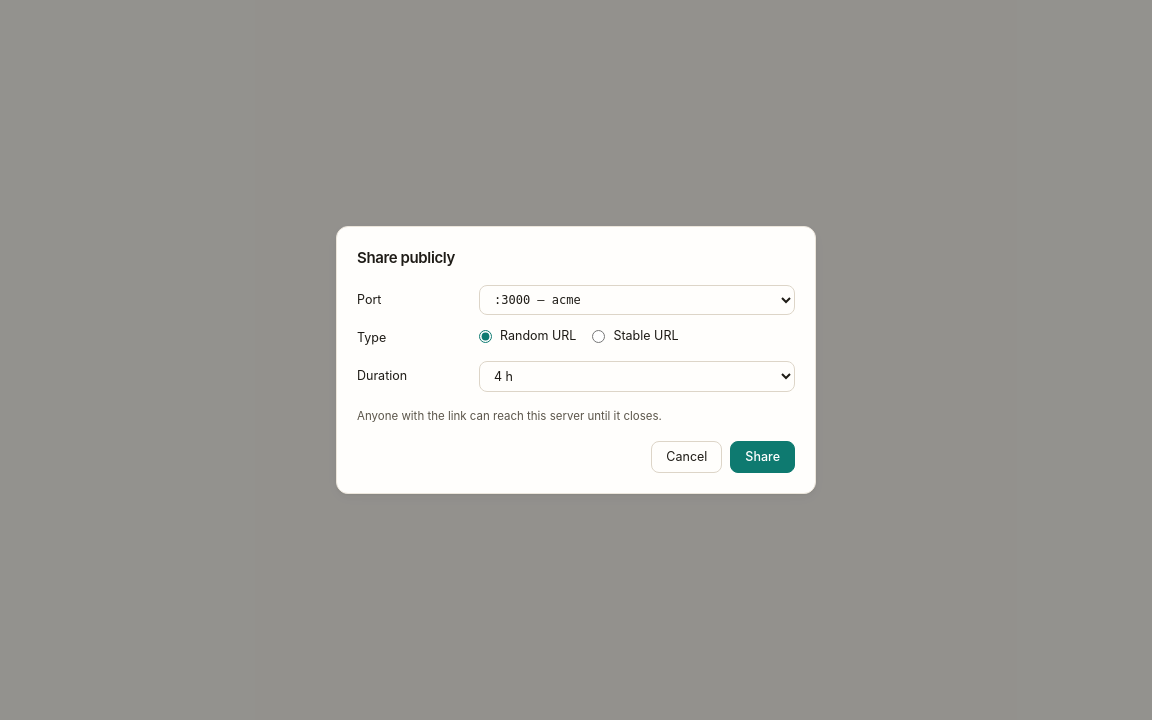
ShareDialog › blocks Share on an invalid typed name
Click the radio button labelled "Stable URL": x=599, y=337 [592,330,605,343]
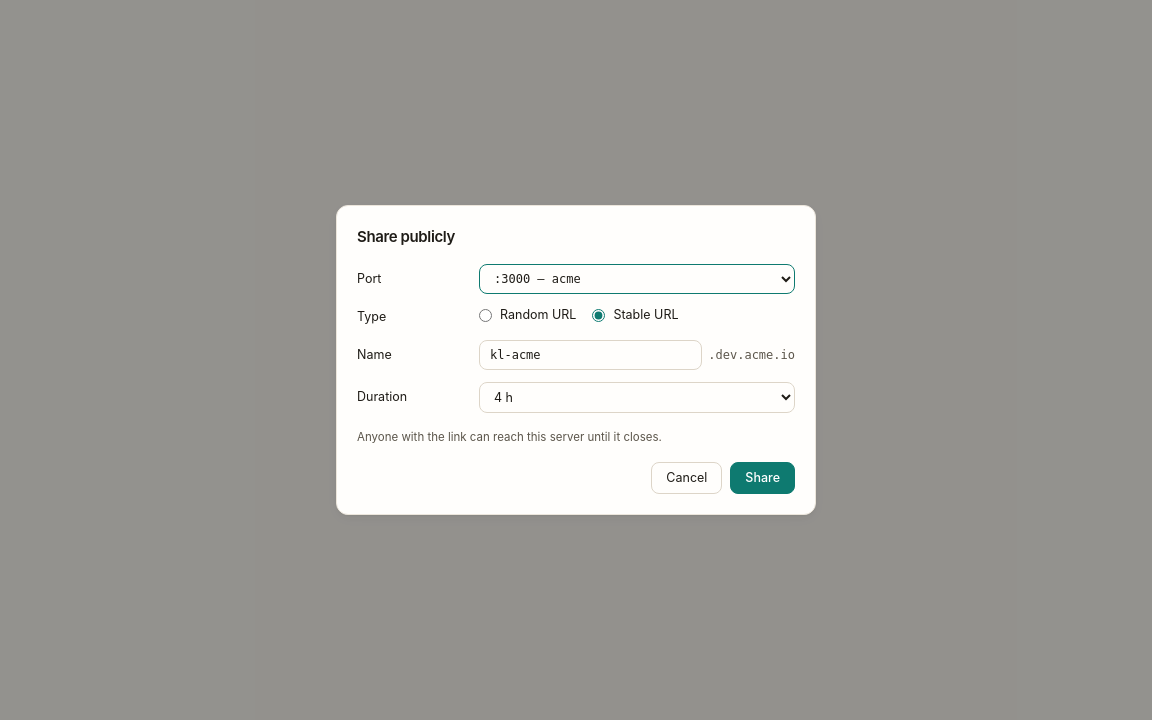
Replace the text in the field with id "share-name" with "Bad_Name": x=591, y=355 [479,340,702,370]
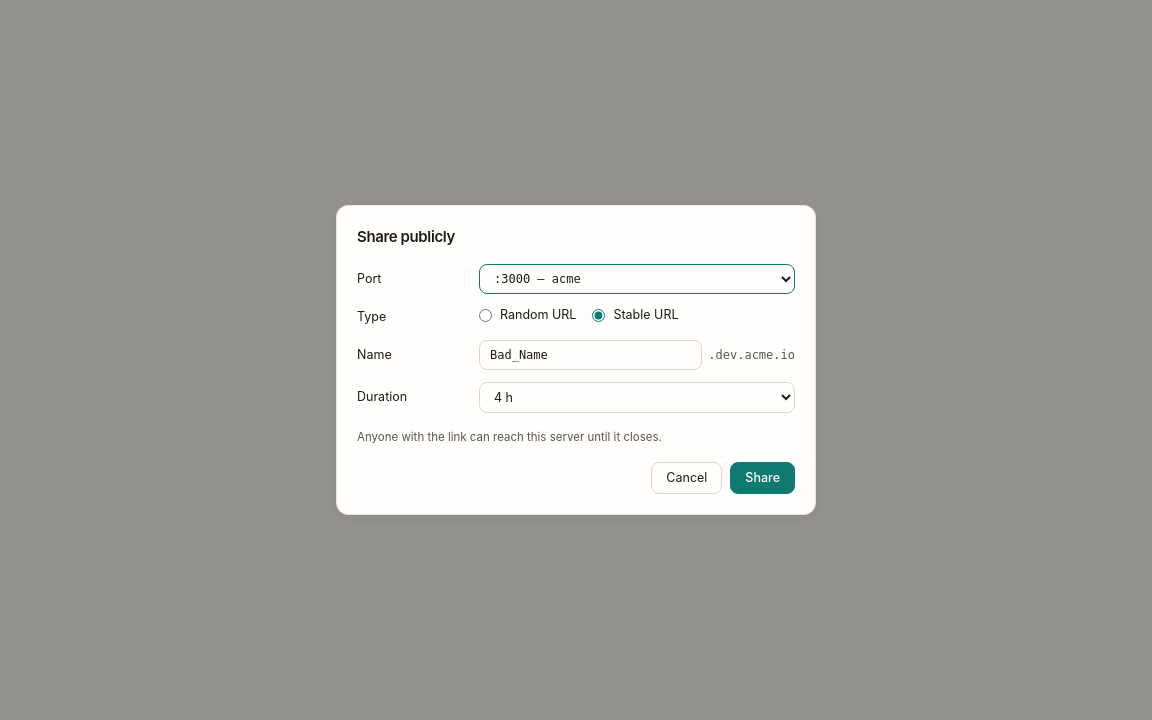
Submit the dialog, box [336,205,816,515]
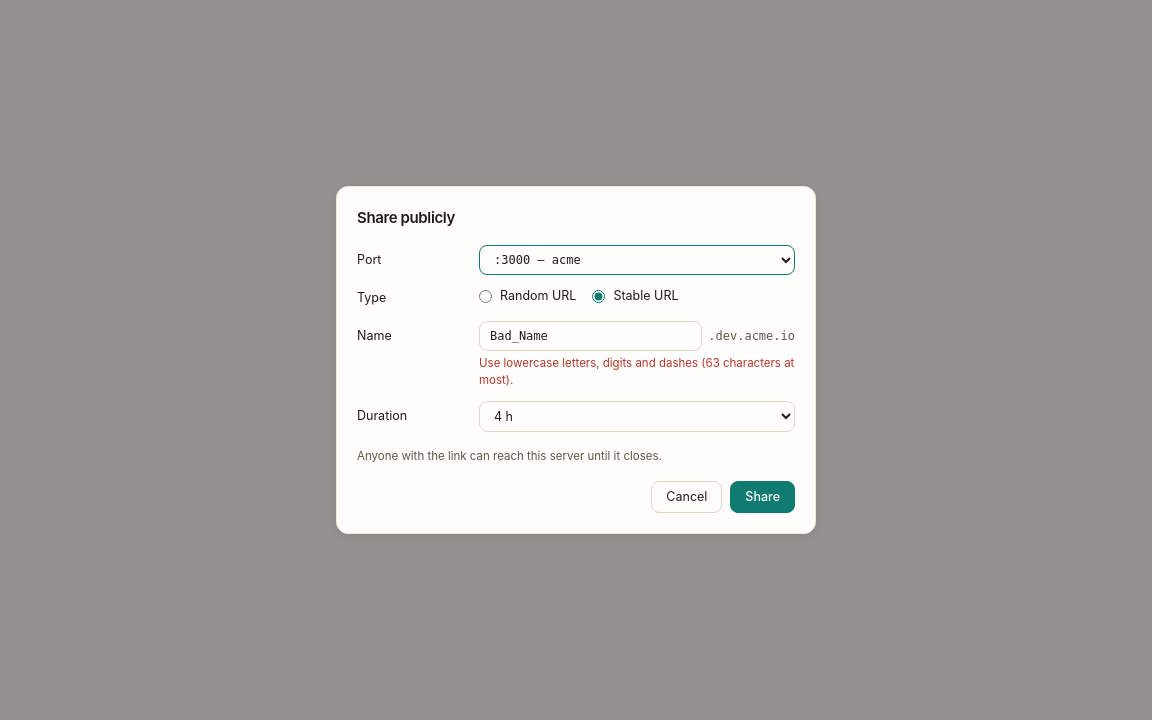
Expected: the message with test id "name-error" reads "Use lowercase letters, digits and dashes (63 characters at most).", [479,356,794,387]
